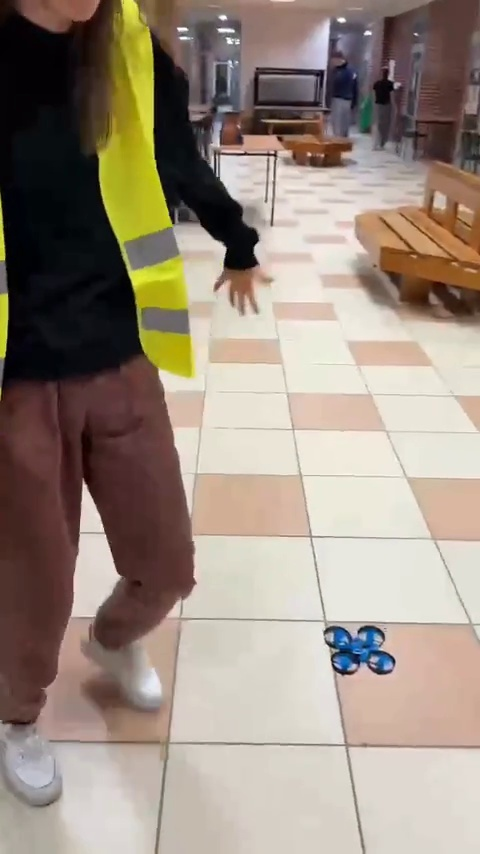drone: (319, 623, 400, 676)
no vest: (322, 51, 362, 150), (368, 64, 399, 158)
vest: (2, 3, 192, 766)
